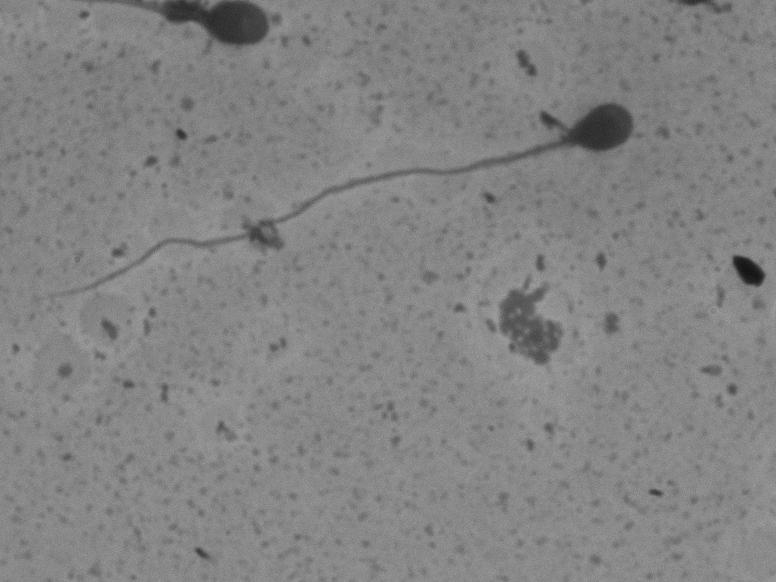Normal: (20, 79, 645, 327)
